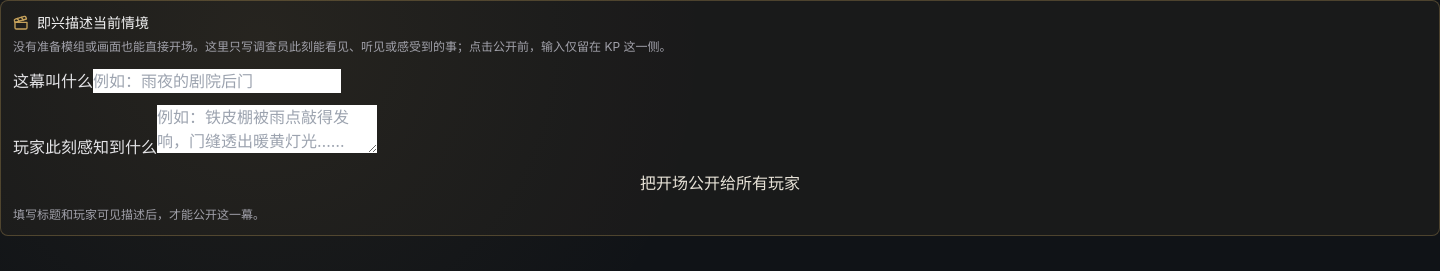
Scenario: ManualScenePresenterV2 › presents a durable public situation without a module or board
In the field named "当前情境名称": (217,81) [93,69,341,93], type "雨夜的剧院后门"
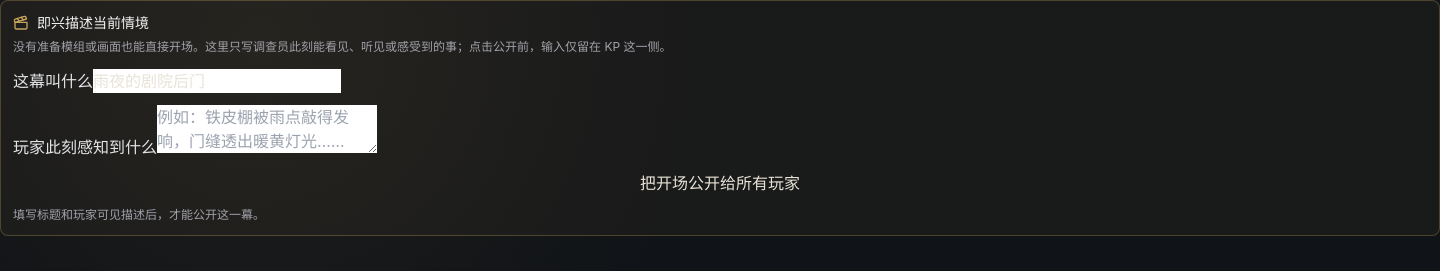
In the text box named "当前情境公开描述": (267,129) [157,105,377,153], type "铁皮棚被雨点敲得发响，门缝透出暖黄灯光。"
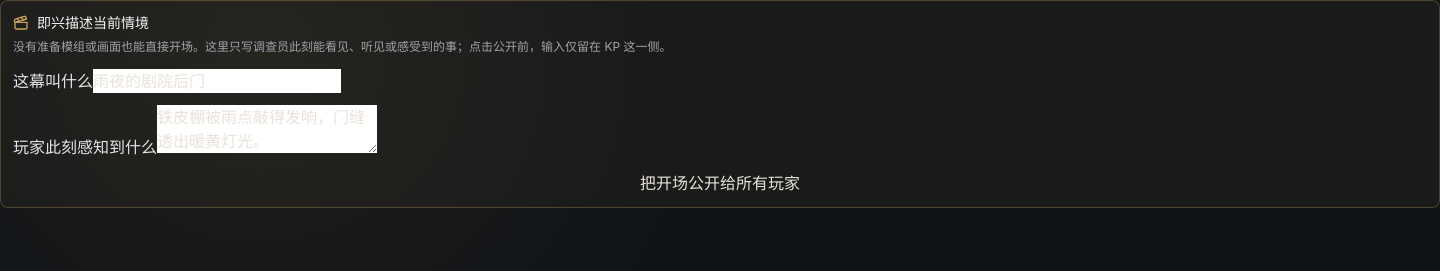
Click the button "把开场公开给所有玩家": (720,183) [13,171,1427,195]
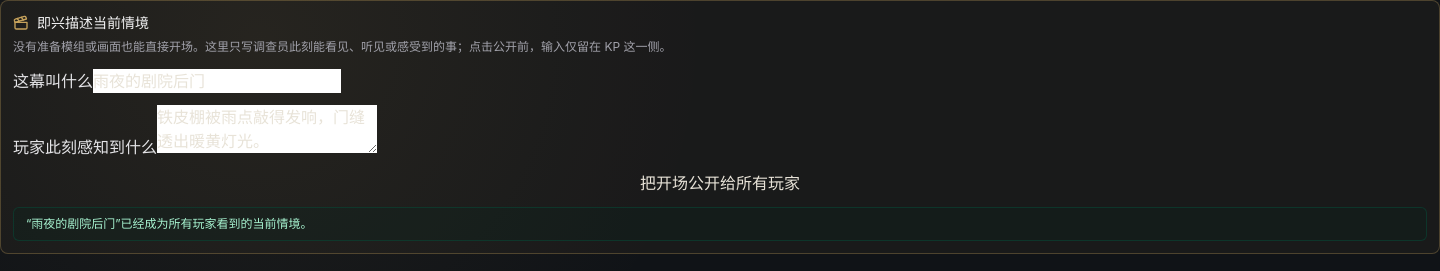
Check: the message shows "已经成为所有玩家看到的当前情境", box [26,216,313,231]
